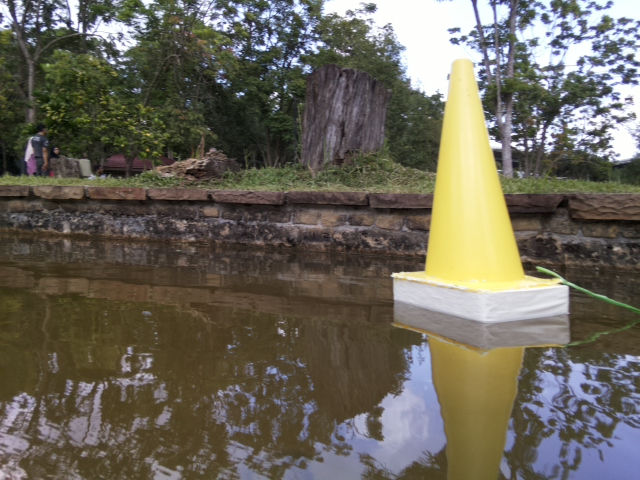checkpoint: (391, 59, 572, 324)
